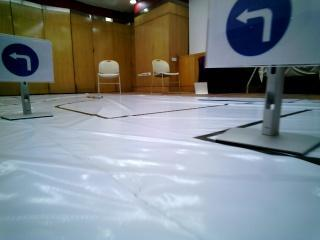left: (209, 0, 320, 69), (0, 39, 50, 82)
